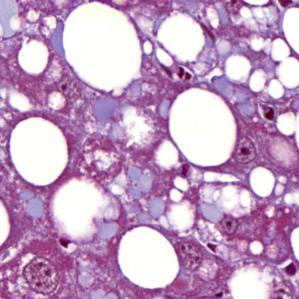steatosis: (169, 86, 241, 168), (6, 115, 70, 189), (118, 225, 182, 291), (14, 37, 52, 78)
